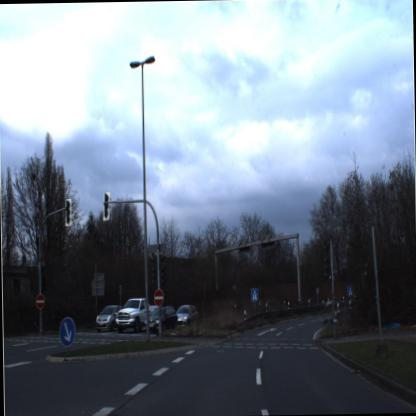mandatory: (58, 312, 76, 351)
other: (150, 286, 166, 310), (32, 292, 46, 314)
